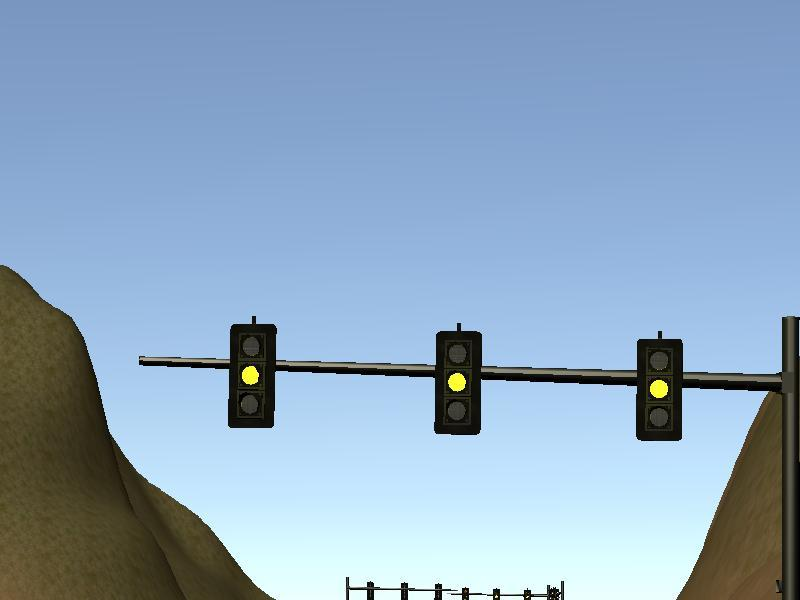Yellow: (436, 332, 481, 435), (637, 340, 682, 441), (230, 324, 274, 427)
